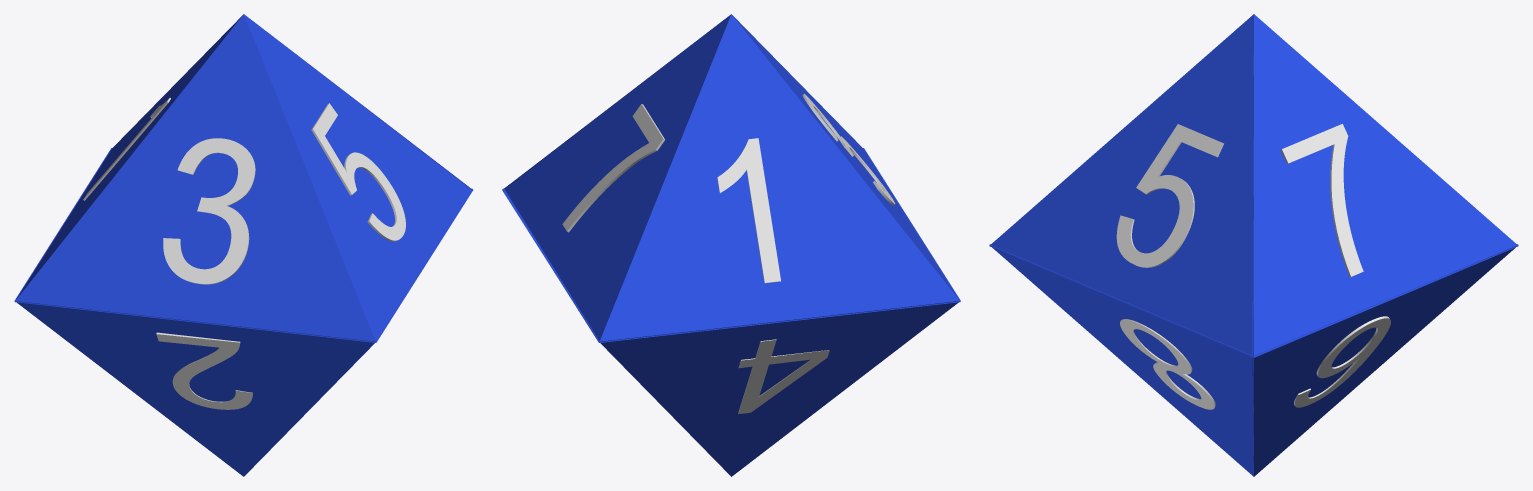
3 views of the same model, side by side, from view 1: azimuth 30°, elevation 25°; view 2: azimuth 150°, elevation 25°; view 3: azimuth 270°, elevation 25° (orthographic).
Parts seen in each view (by area): view 1: Cone.001, 3.002, 5.002, 2.002, 1.002; view 2: Cone.001, 1.002, 4.002, 7.001, 3.002; view 3: Cone.001, 5.002, 7.001, 6.002, 8.001.
Part boxes in pixels (x1,y1,x2,y2): Cone.001: (14,14,473,476); 3.002: (163,138,255,284); 5.002: (311,103,405,241); 2.002: (156,332,252,409); 1.002: (83,98,170,200); Cone.001: (502,14,960,476); 1.002: (717,138,780,283); 4.002: (738,339,829,414); 7.001: (562,104,664,232); 3.002: (802,94,895,205); Cone.001: (989,14,1518,476); 5.002: (1116,124,1223,267); 7.001: (1280,124,1363,277); 6.002: (1294,316,1390,407); 8.001: (1120,319,1215,409).
Bounding box in the file's own units: 2 × 1.93 × 2.
